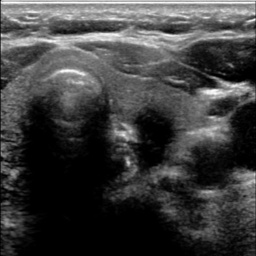mass: (131, 108, 174, 171)
